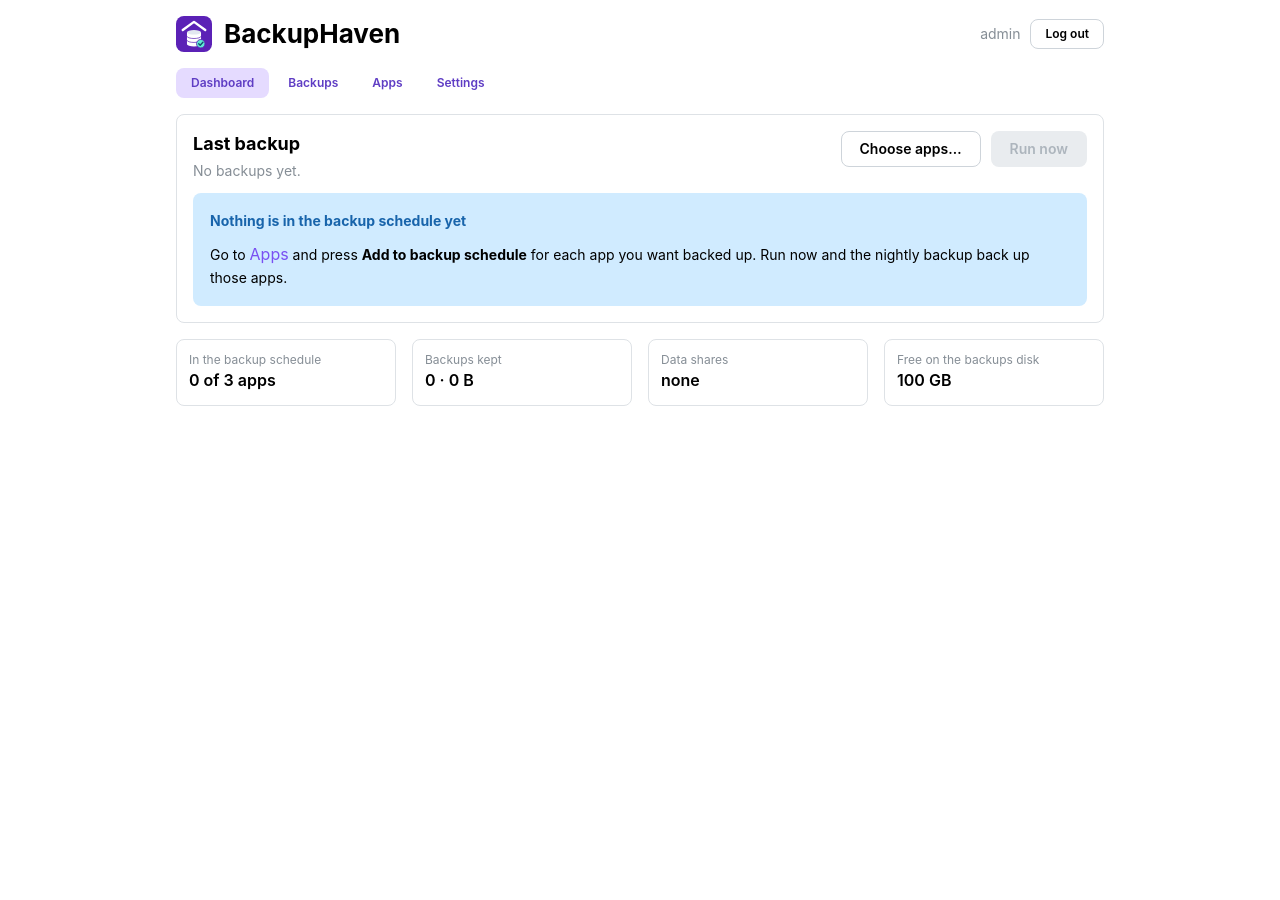
backs up only the apps chosen
Step 1. Click the button "Choose apps…" → (910, 149), box [840,131,980,167]
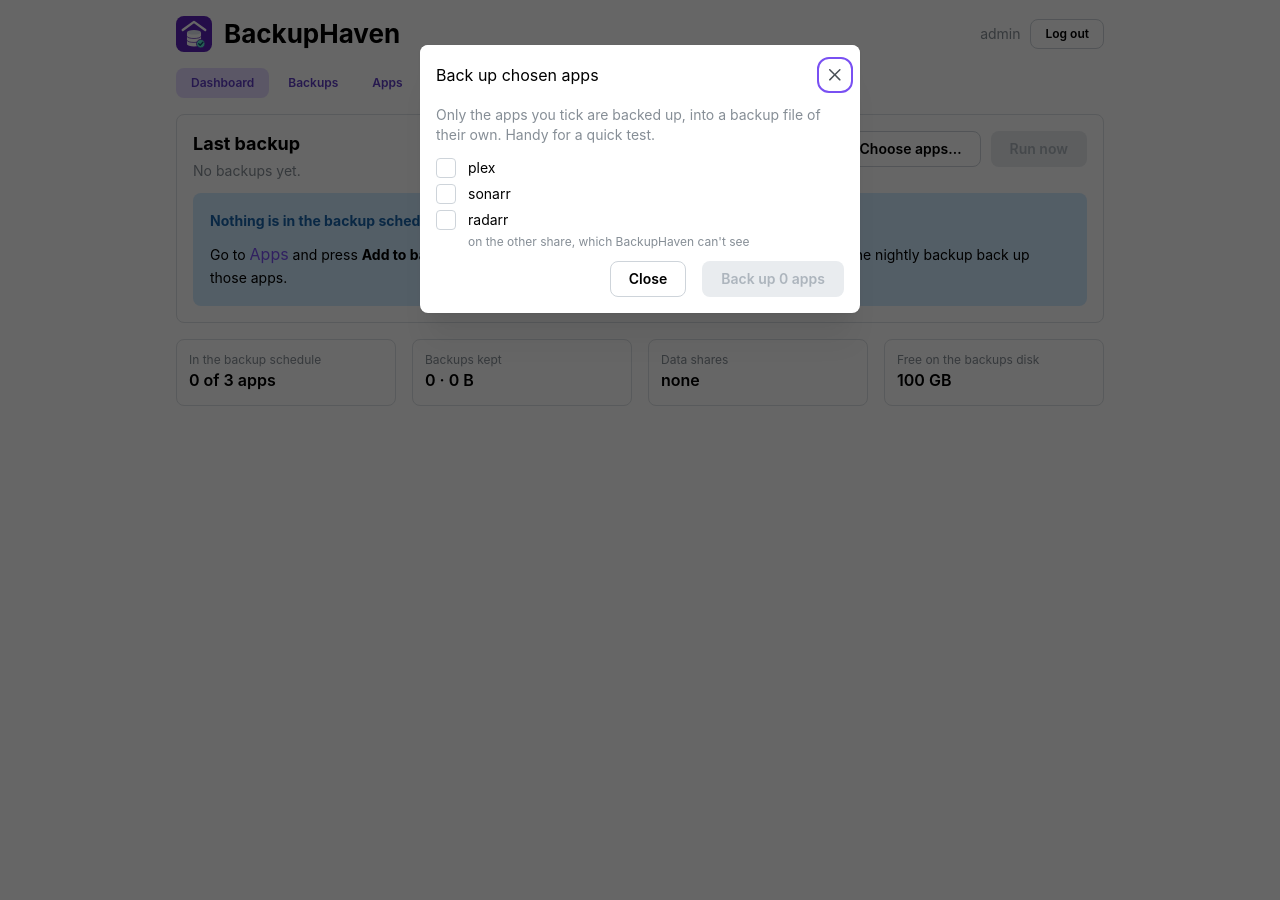
Expected: the text "on the other share, which BackupHaven can't see" is shown, [456,235,750,249]
Expected: the button "Back up 0 apps" is disabled, [702,261,844,297]
Step 2. Click the checkbox labelled "plex" → (446, 168), box [436,158,456,178]
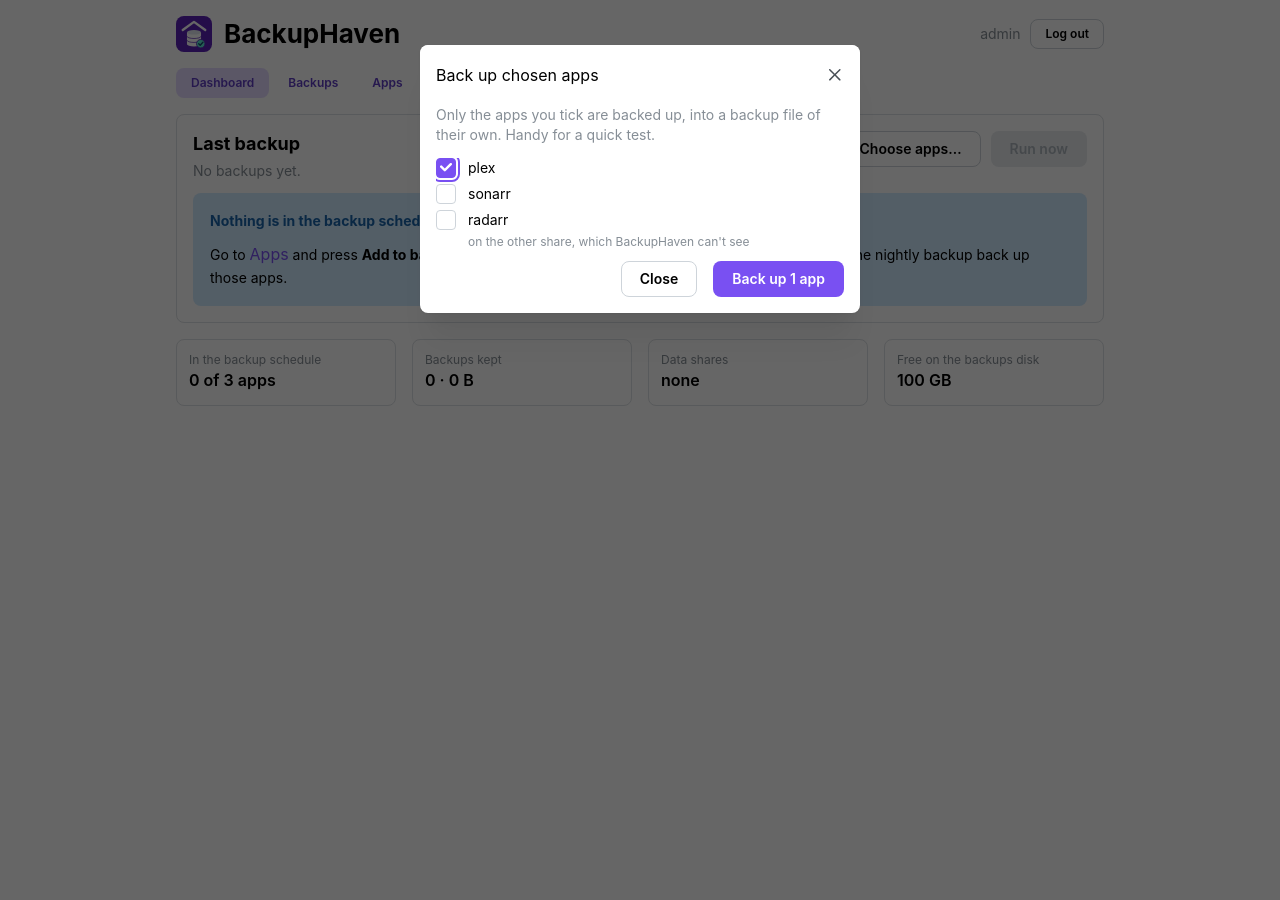
Step 3. Click the checkbox labelled "sonarr" → (446, 194), box [436,184,456,204]
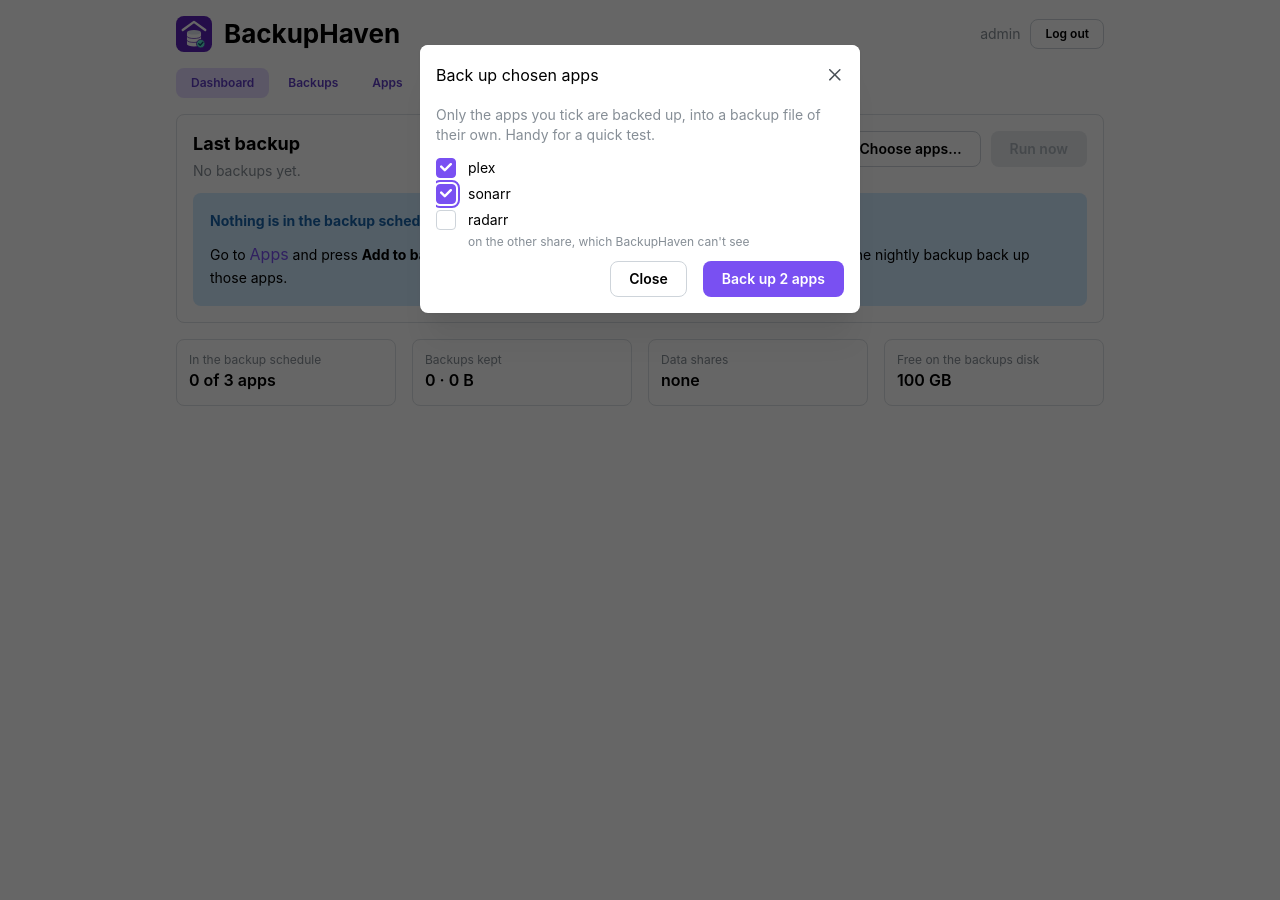
Step 4. Click the button "Back up 2 apps" → (773, 279), box [703,261,844,297]
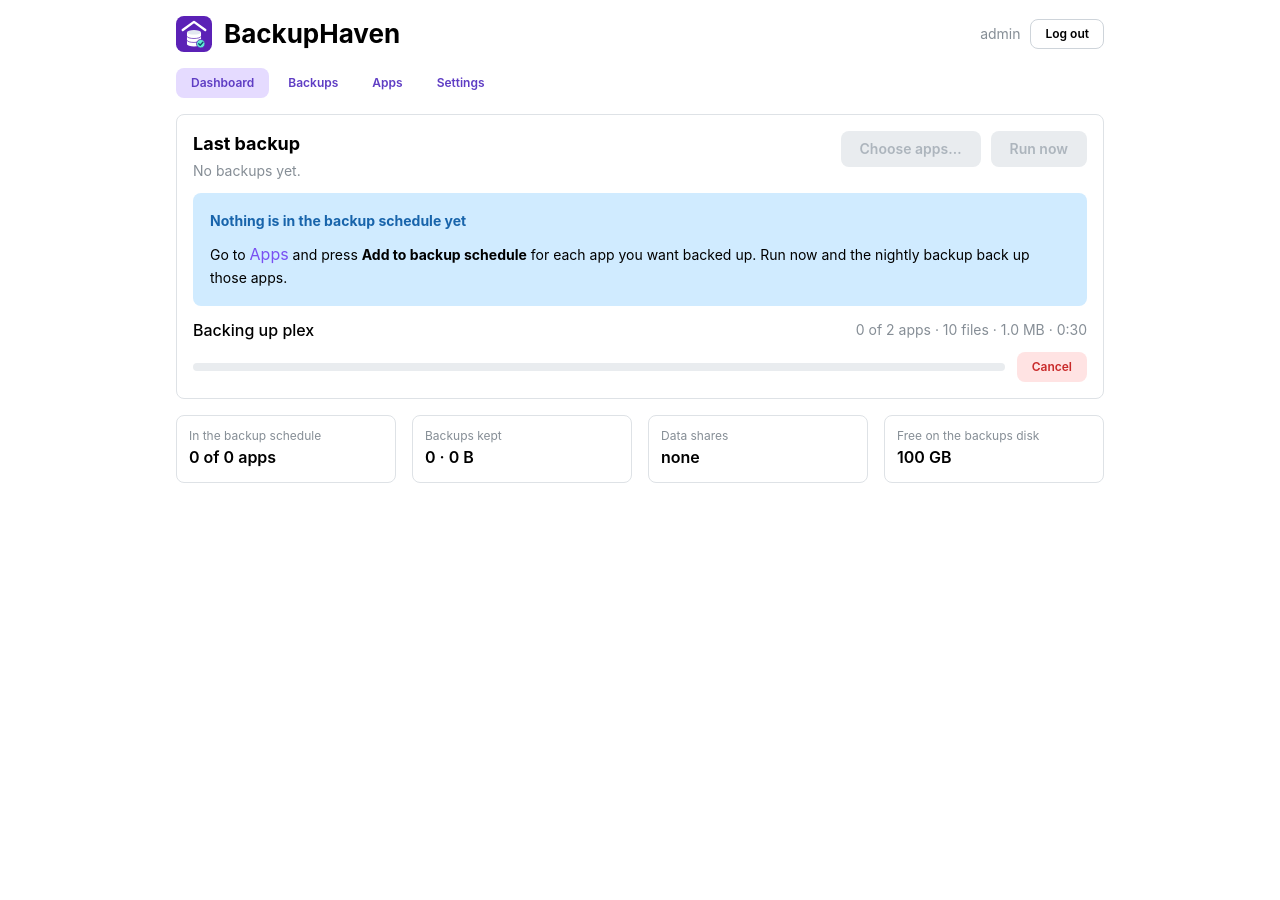
Expected: the text "Backing up plex" is shown, [193,318,314,342]
